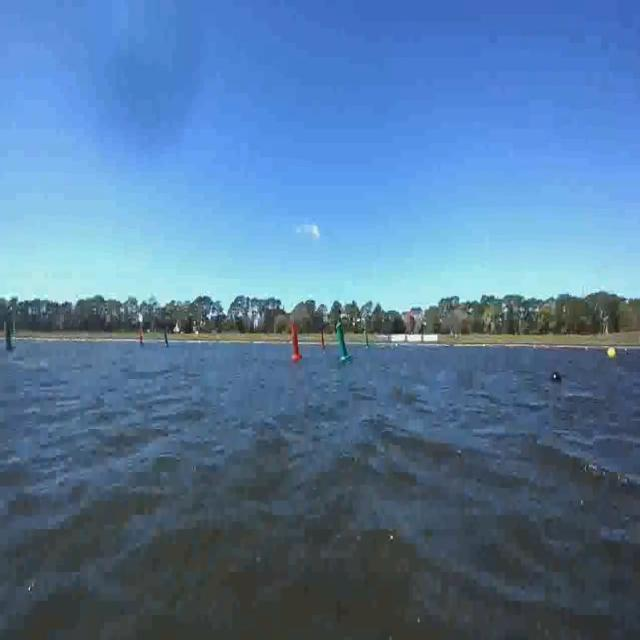black-buoy: (551, 366, 563, 382)
green-column-buoy: (336, 323, 352, 362), (2, 316, 17, 354), (162, 329, 169, 350)
red-column-buoy: (289, 324, 301, 362), (138, 327, 146, 346), (321, 333, 327, 352)
yellow-buoy: (606, 344, 616, 362)
